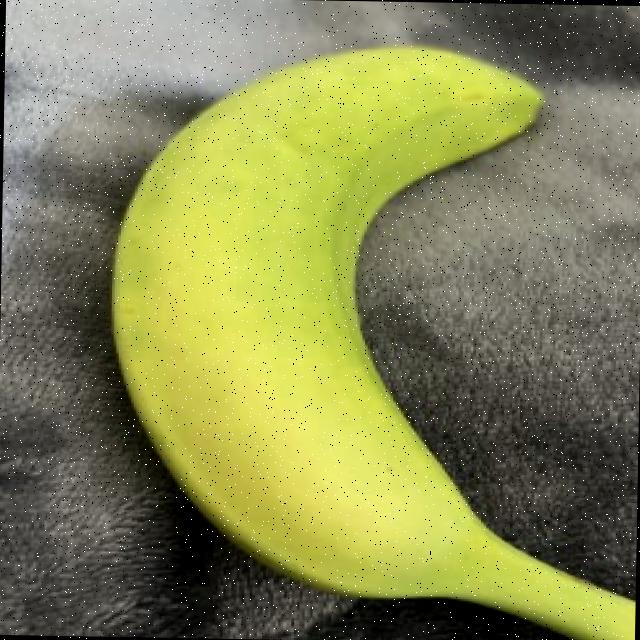Unripe: (103, 2, 640, 640)
